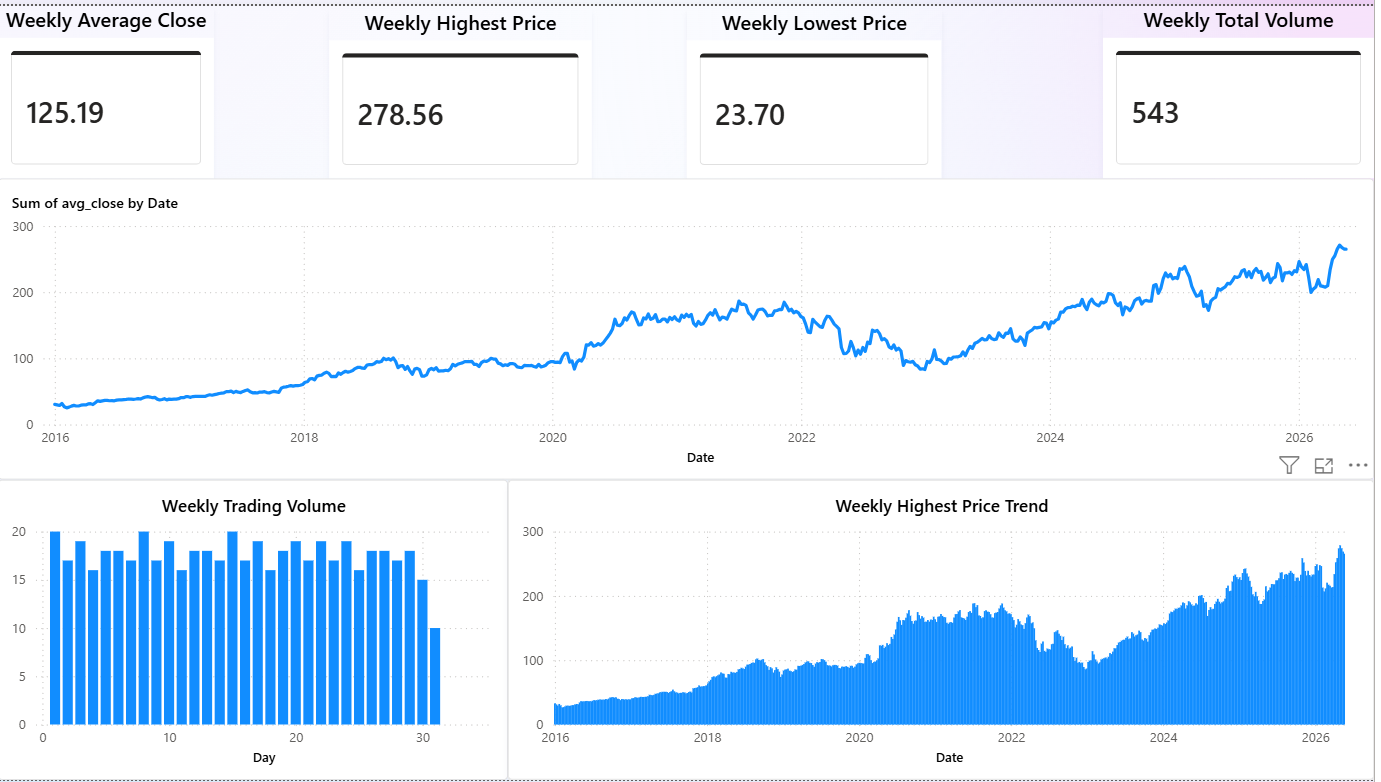

Layout of this report page (visuals, bound fields, positions):
{"tool":"powerbi","page":{"name":"Weekly Stock Analysis","canvas":[1280,720],"ordinal":1},"visuals":[{"type":"cardVisual","title":"Weekly Average Close","fields":{"Data":["Avg(gold_amzn_weekly_summary.avg_close)"]},"box":[0,0,201.2,160.5],"z":0},{"type":"cardVisual","title":"Weekly Highest Price","fields":{"Data":["Max(gold_amzn_weekly_summary.max_price)"]},"box":[308.1,2.3,244.2,158.1],"z":1000},{"type":"cardVisual","title":"Weekly Lowest Price","fields":{"Data":["Min(gold_amzn_weekly_summary.min_price)"]},"box":[640.7,2.3,237.2,158.1],"z":2000},{"type":"cardVisual","title":"Weekly Total Volume","fields":{"Data":["CountNonNull(gold_amzn_weekly_summary.total_volume)"]},"box":[1027.9,0,252.3,160.5],"z":3000},{"type":"lineChart","fields":{"Y":["Sum(gold_amzn_weekly_summary.avg_close)"],"Category":["gold_amzn_weekly_summary.Date"]},"box":[0,160.5,1280.2,280.2],"z":4000},{"type":"clusteredColumnChart","title":"Weekly Trading Volume","fields":{"Category":["gold_amzn_weekly_summary.Date.Variation.Date Hierarchy.Day"],"Y":["CountNonNull(gold_amzn_weekly_summary.total_volume)"]},"box":[0,440.7,474.4,279.1],"z":5000},{"type":"clusteredColumnChart","title":"Weekly Highest Price Trend","fields":{"Y":["Sum(gold_amzn_weekly_summary.max_price)"],"Category":["gold_amzn_weekly_summary.Date"]},"box":[474.4,440.7,805.8,279.1],"z":6000}]}

Visuals, with their boxes in screenshot pixels (x1, y1, x2, y2), scaled from the page's 1280x720 canvas onto the 1381x782 screenshot:
"Weekly Average Close" cardVisual: <region>0, 0, 217, 174</region>
"Weekly Highest Price" cardVisual: <region>332, 2, 596, 174</region>
"Weekly Lowest Price" cardVisual: <region>691, 2, 947, 174</region>
"Weekly Total Volume" cardVisual: <region>1109, 0, 1380, 174</region>
lineChart - Sum(gold_amzn_weekly_summary.avg_close) x gold_amzn_weekly_summary.Date: <region>0, 174, 1380, 479</region>
"Weekly Trading Volume" clusteredColumnChart: <region>0, 479, 512, 781</region>
"Weekly Highest Price Trend" clusteredColumnChart: <region>512, 479, 1380, 781</region>
